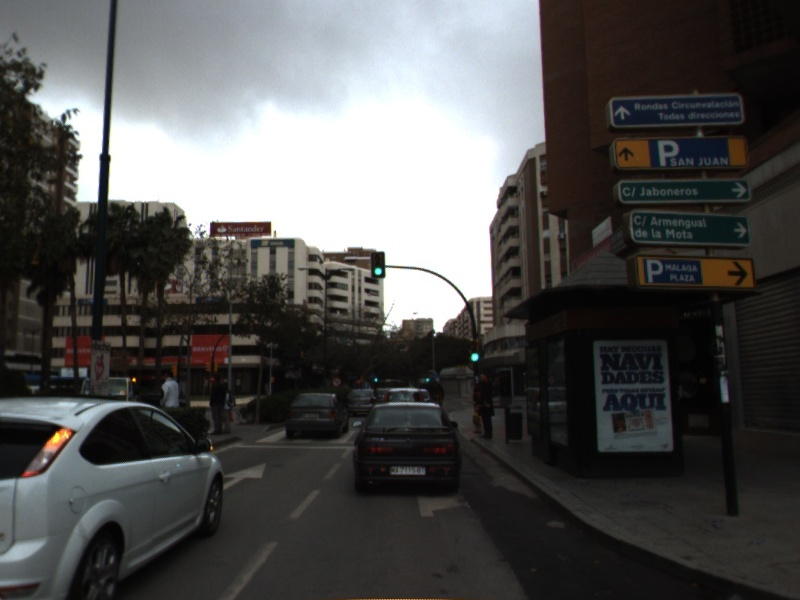STRAIGHT: (223, 459, 269, 490)
